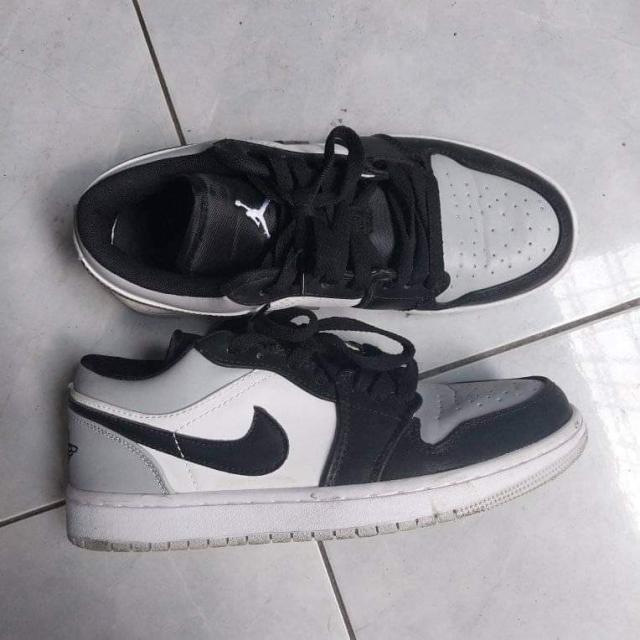nike fake jordan 1: (60, 310, 593, 555), (63, 134, 578, 322)
